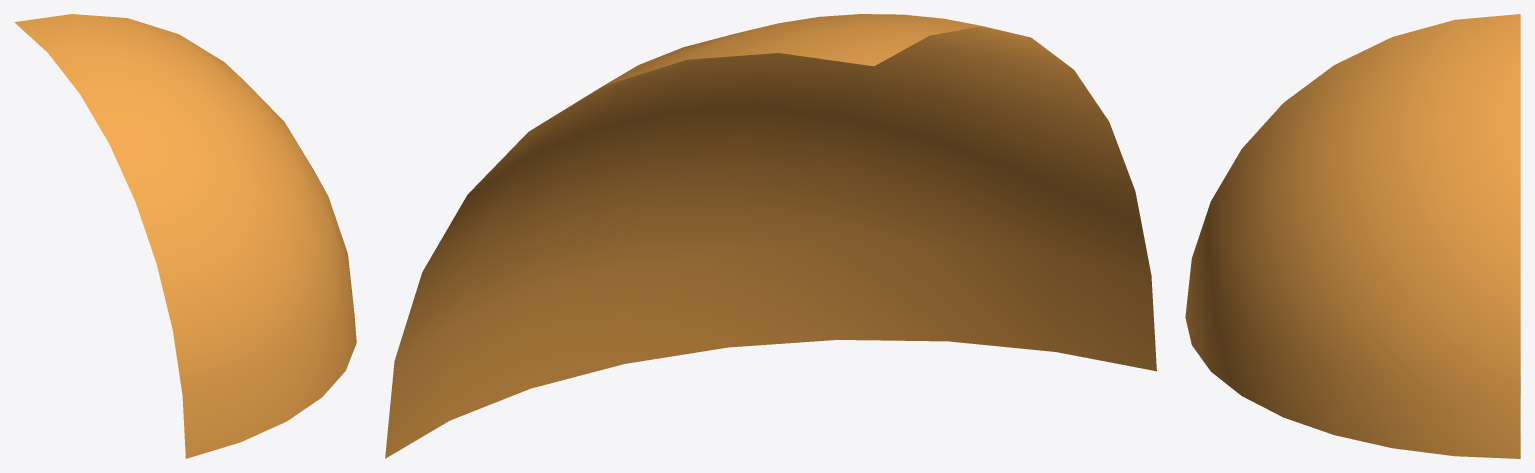
File: r4c1_face_orange.gltf
3 renders of one model, left to right at view 1: azimuth 30°, elevation 25°; view 2: azimuth 150°, elevation 25°; view 3: azimuth 270°, elevation 25°, orthographic. The views are drawn at different scales.
Parts seen in each view (by area): view 1: r4c1_face_orange; view 2: r4c1_face_orange; view 3: r4c1_face_orange.
Boxes of the visible parts, <box> form: r4c1_face_orange: <box>14,14,356,458</box>; r4c1_face_orange: <box>385,14,1156,458</box>; r4c1_face_orange: <box>1185,14,1520,458</box>.
Size of the model in its own units: 2 by 2 by 2.
Materials: 1 (1 with a texture image).
